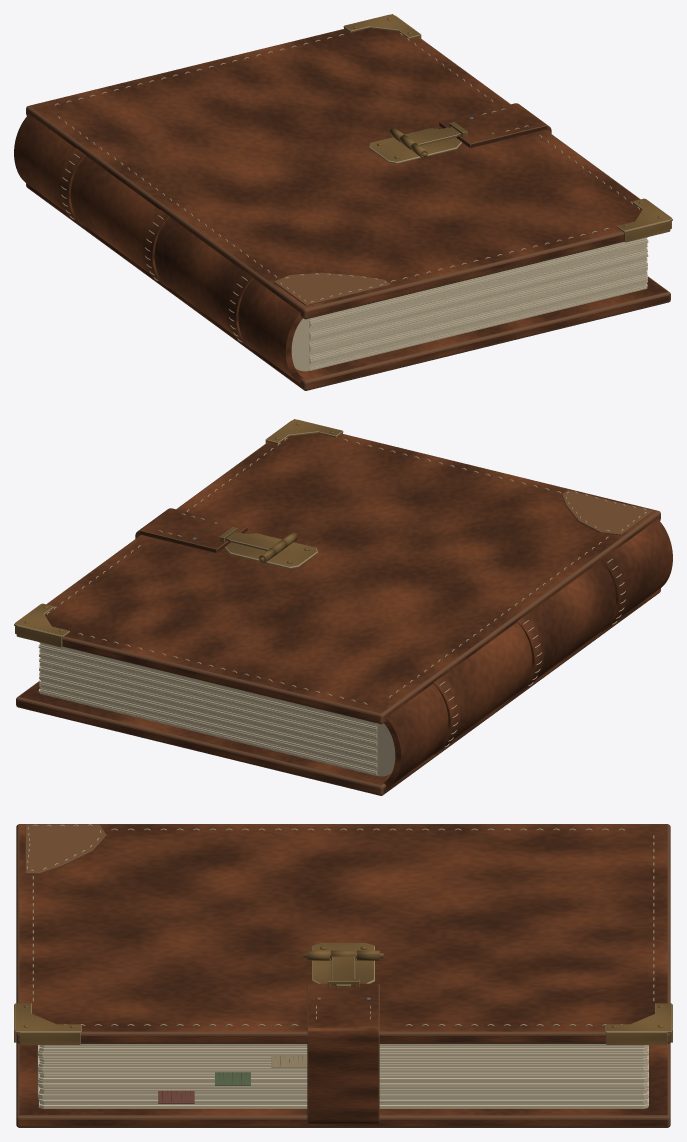
3 renders of one model, top to bottom at view 1: azimuth 30°, elevation 25°; view 2: azimuth 150°, elevation 25°; view 3: azimuth 270°, elevation 25°, orthographic. The views are drawn at different scales.
Parts seen in each view (by area): view 1: FT_051_top_cover, FT_051_curved_leather_spine, FT_051_bottom_cover, FT_051_folded_closure_strap, FT_051_saddle_stitched_repair_patch, FT_051_clasp_anchor_plate, FT_051_raised_binding_cord_0, FT_051_raised_binding_cord_2, FT_051_raised_binding_cord_1, FT_051_paper_signature_31, FT_051_paper_signature_07, FT_051_paper_signature_15 (+36 smaller); view 2: FT_051_top_cover, FT_051_curved_leather_spine, FT_051_bottom_cover, FT_051_folded_closure_strap, FT_051_saddle_stitched_repair_patch, FT_051_clasp_anchor_plate, FT_051_paper_signature_21, FT_051_paper_signature_02, FT_051_paper_signature_26, FT_051_paper_signature_16, FT_051_paper_signature_07, FT_051_raised_binding_cord_0 (+36 smaller); view 3: FT_051_top_cover, FT_051_bottom_cover, FT_051_folded_closure_strap, FT_051_saddle_stitched_repair_patch, FT_051_paper_signature_04, FT_051_paper_signature_30, FT_051_paper_signature_01, FT_051_paper_signature_31, FT_051_paper_signature_21, FT_051_paper_signature_33, FT_051_paper_signature_22, FT_051_paper_signature_10 (+38 smaller).
Boxes of the visible parts, left/top/right/bottom form: FT_051_top_cover: left=26, top=28, right=670, bottom=319; FT_051_curved_leather_spine: left=14, top=114, right=303, bottom=383; FT_051_bottom_cover: left=26, top=183, right=670, bottom=390; FT_051_folded_closure_strap: left=439, top=103, right=551, bottom=148; FT_051_saddle_stitched_repair_patch: left=274, top=272, right=390, bottom=305; FT_051_clasp_anchor_plate: left=369, top=128, right=461, bottom=163; FT_051_raised_binding_cord_0: left=226, top=271, right=253, bottom=349; FT_051_raised_binding_cord_2: left=59, top=148, right=85, bottom=227; FT_051_raised_binding_cord_1: left=142, top=209, right=169, bottom=288; FT_051_paper_signature_31: left=309, top=238, right=647, bottom=323; FT_051_paper_signature_07: left=309, top=274, right=647, bottom=360; FT_051_paper_signature_15: left=309, top=263, right=647, bottom=348; FT_051_top_cover: left=16, top=433, right=660, bottom=724; FT_051_curved_leather_spine: left=383, top=519, right=672, bottom=788; FT_051_bottom_cover: left=16, top=588, right=660, bottom=795; FT_051_folded_closure_strap: left=135, top=508, right=247, bottom=553; FT_051_saddle_stitched_repair_patch: left=562, top=490, right=652, bottom=535; FT_051_clasp_anchor_plate: left=225, top=533, right=317, bottom=568; FT_051_paper_signature_21: left=39, top=658, right=377, bottom=743; FT_051_paper_signature_02: left=40, top=689, right=377, bottom=772; FT_051_paper_signature_26: left=40, top=652, right=377, bottom=736; FT_051_paper_signature_16: left=39, top=666, right=377, bottom=751; FT_051_paper_signature_07: left=39, top=679, right=377, bottom=765; FT_051_raised_binding_cord_0: left=601, top=553, right=627, bottom=632; FT_051_top_cover: left=16, top=824, right=670, bottom=1043; FT_051_bottom_cover: left=16, top=1042, right=670, bottom=1127; FT_051_folded_closure_strap: left=307, top=983, right=379, bottom=1124; FT_051_saddle_stitched_repair_patch: left=25, top=824, right=106, bottom=874; FT_051_paper_signature_04: left=38, top=1099, right=647, bottom=1102; FT_051_paper_signature_30: left=37, top=1045, right=648, bottom=1055; FT_051_paper_signature_01: left=39, top=1097, right=648, bottom=1107; FT_051_paper_signature_31: left=38, top=1045, right=648, bottom=1053; FT_051_paper_signature_21: left=38, top=1063, right=648, bottom=1071; FT_051_paper_signature_33: left=39, top=1047, right=647, bottom=1050; FT_051_paper_signature_22: left=37, top=1055, right=647, bottom=1069; FT_051_paper_signature_10: left=40, top=1088, right=648, bottom=1091.
Bounding box in the file's own units: 0.2359 × 0.0525 × 0.292.
Materials: 13 (2 with a texture image).
